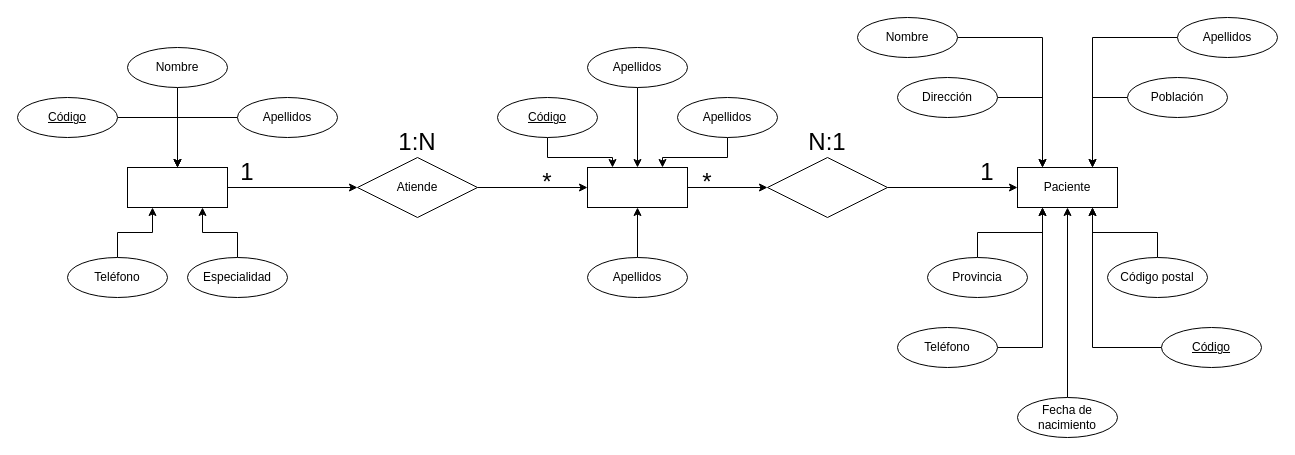
Image size: 1295x455. Some labels were removed from this diagram. Here are the shapes that lost their labels. From the top down, the box of each, then its label:
(126, 166, 228, 208): Médico
(586, 166, 688, 208): Ingreso
(766, 156, 888, 218): Es realizado por
